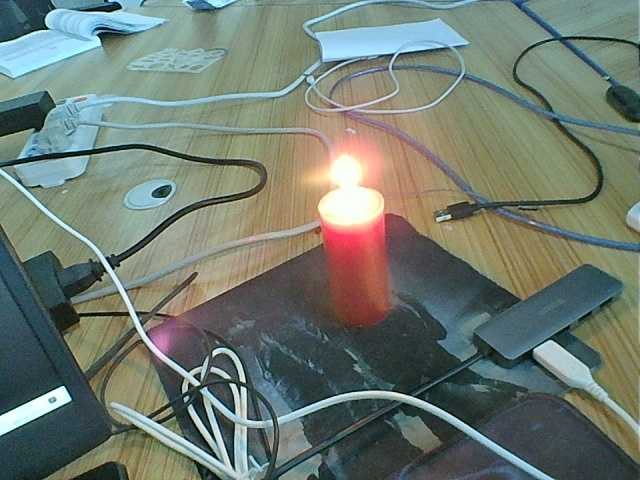candle: (317, 219, 393, 326)
fire: (319, 154, 373, 219)
